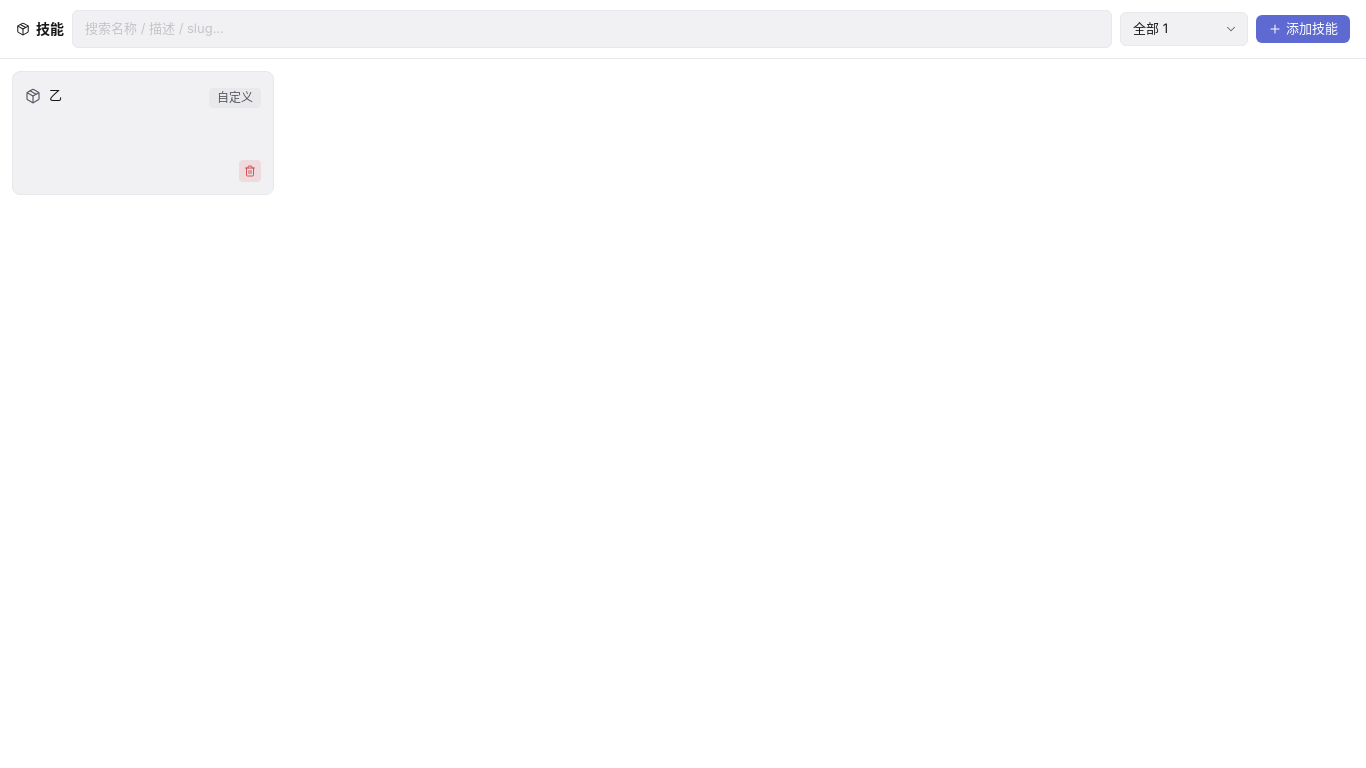
Test: TypePageShell - 删除二次确认（P2.5 Task 4） › skill 类型弹窗 message 仅「此操作不可撤销。」（无悬空句）
This screenshot has width=1366, height=768.
Step 1. Click the button named "删除 乙" → [250, 170], box left=239, top=160, right=261, bottom=182
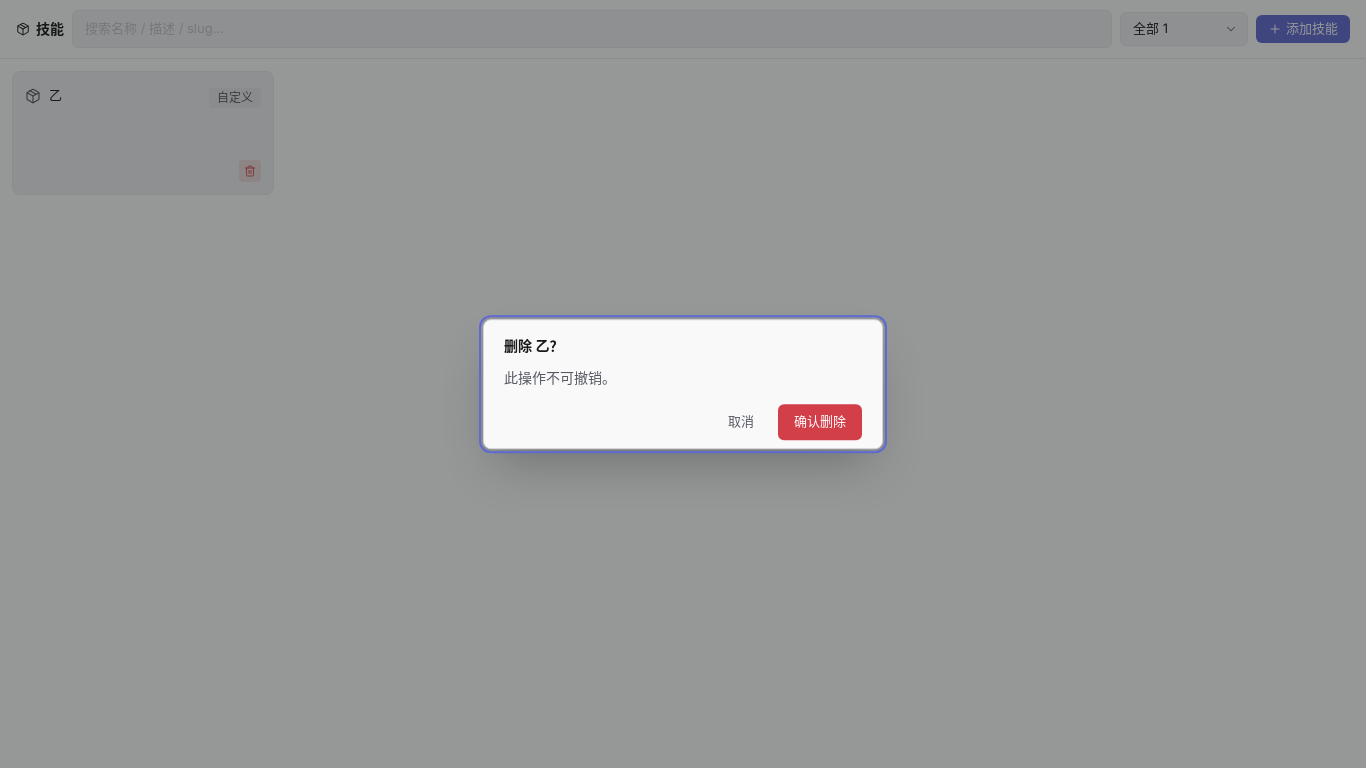
Result: the text "此操作不可撤销。" is shown at left=504, top=369, right=616, bottom=386
